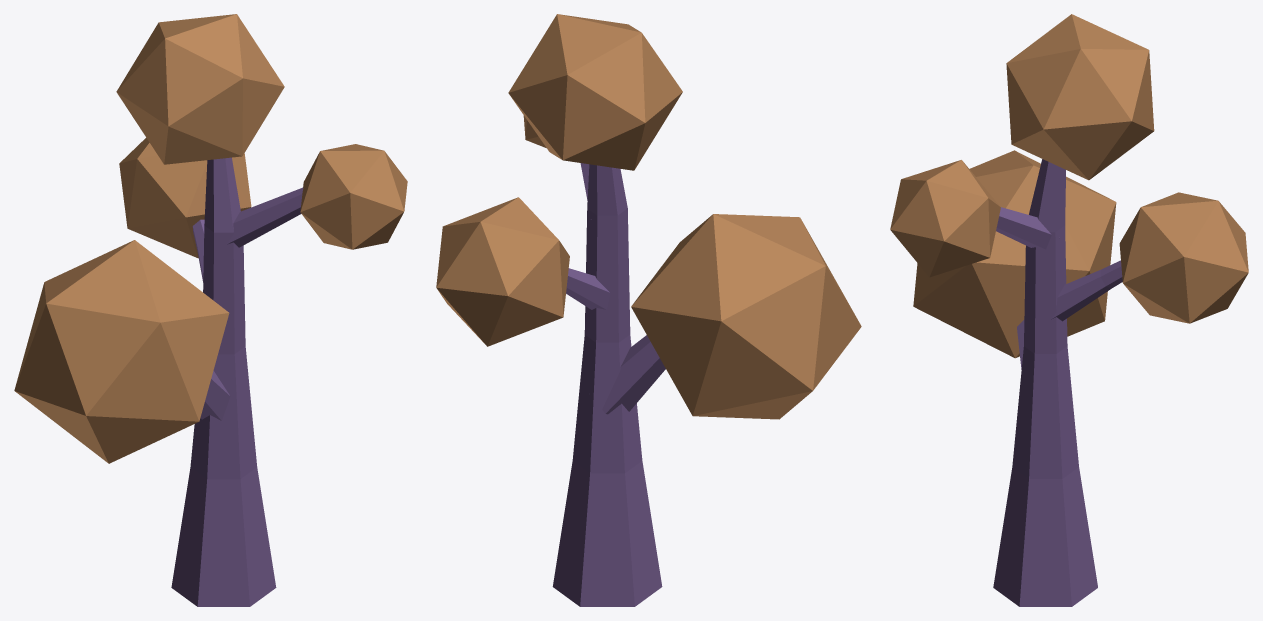
3 views of the same model, side by side, from view 1: azimuth 30°, elevation 25°; view 2: azimuth 150°, elevation 25°; view 3: azimuth 270°, elevation 25° (orthographic). The views are drawn at different scales.
Parts seen in each view (by area): view 1: Cylinder.003, Cylinder, Cylinder.001, Cylinder.002, Cylinder.004, Cylinder.006; view 2: Cylinder.003, Cylinder, Cylinder.001, Cylinder.004, Cylinder.006, Cylinder.005; view 3: Cylinder, Cylinder.001, Cylinder.003, Cylinder.004, Cylinder.002, Cylinder.005.
Boxes of the visible parts, x1,y1,x2,y2 form: Cylinder.003: (14, 240, 229, 463); Cylinder: (171, 157, 303, 606); Cylinder.001: (116, 14, 284, 164); Cylinder.002: (300, 144, 407, 249); Cylinder.004: (119, 137, 251, 257); Cylinder.006: (200, 371, 230, 420); Cylinder.003: (631, 214, 861, 419); Cylinder: (552, 163, 662, 606); Cylinder.001: (508, 14, 682, 170); Cylinder.004: (436, 197, 569, 346); Cylinder.006: (602, 335, 665, 414); Cylinder.005: (566, 268, 610, 309); Cylinder: (993, 159, 1097, 606); Cylinder.001: (1006, 14, 1154, 180); Cylinder.003: (913, 150, 1116, 358); Cylinder.004: (1119, 192, 1248, 323); Cylinder.002: (890, 160, 1000, 277); Cylinder.005: (1051, 260, 1122, 321).
Bounding box in the file's own units: 3.45 × 5.42 × 3.18.
